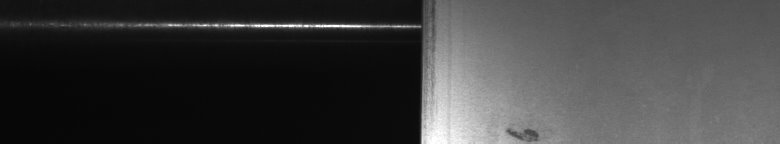fi: (504, 127, 538, 136)
